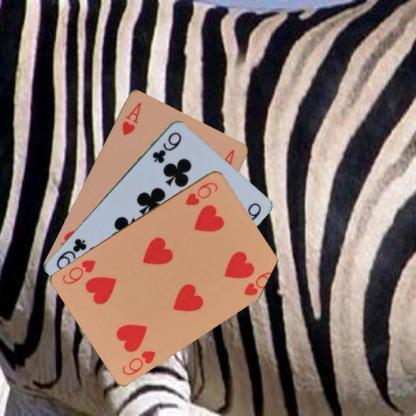6h: (182, 178, 219, 207), (120, 347, 157, 376)
9c: (150, 129, 183, 165)
Ah: (119, 100, 143, 136)
